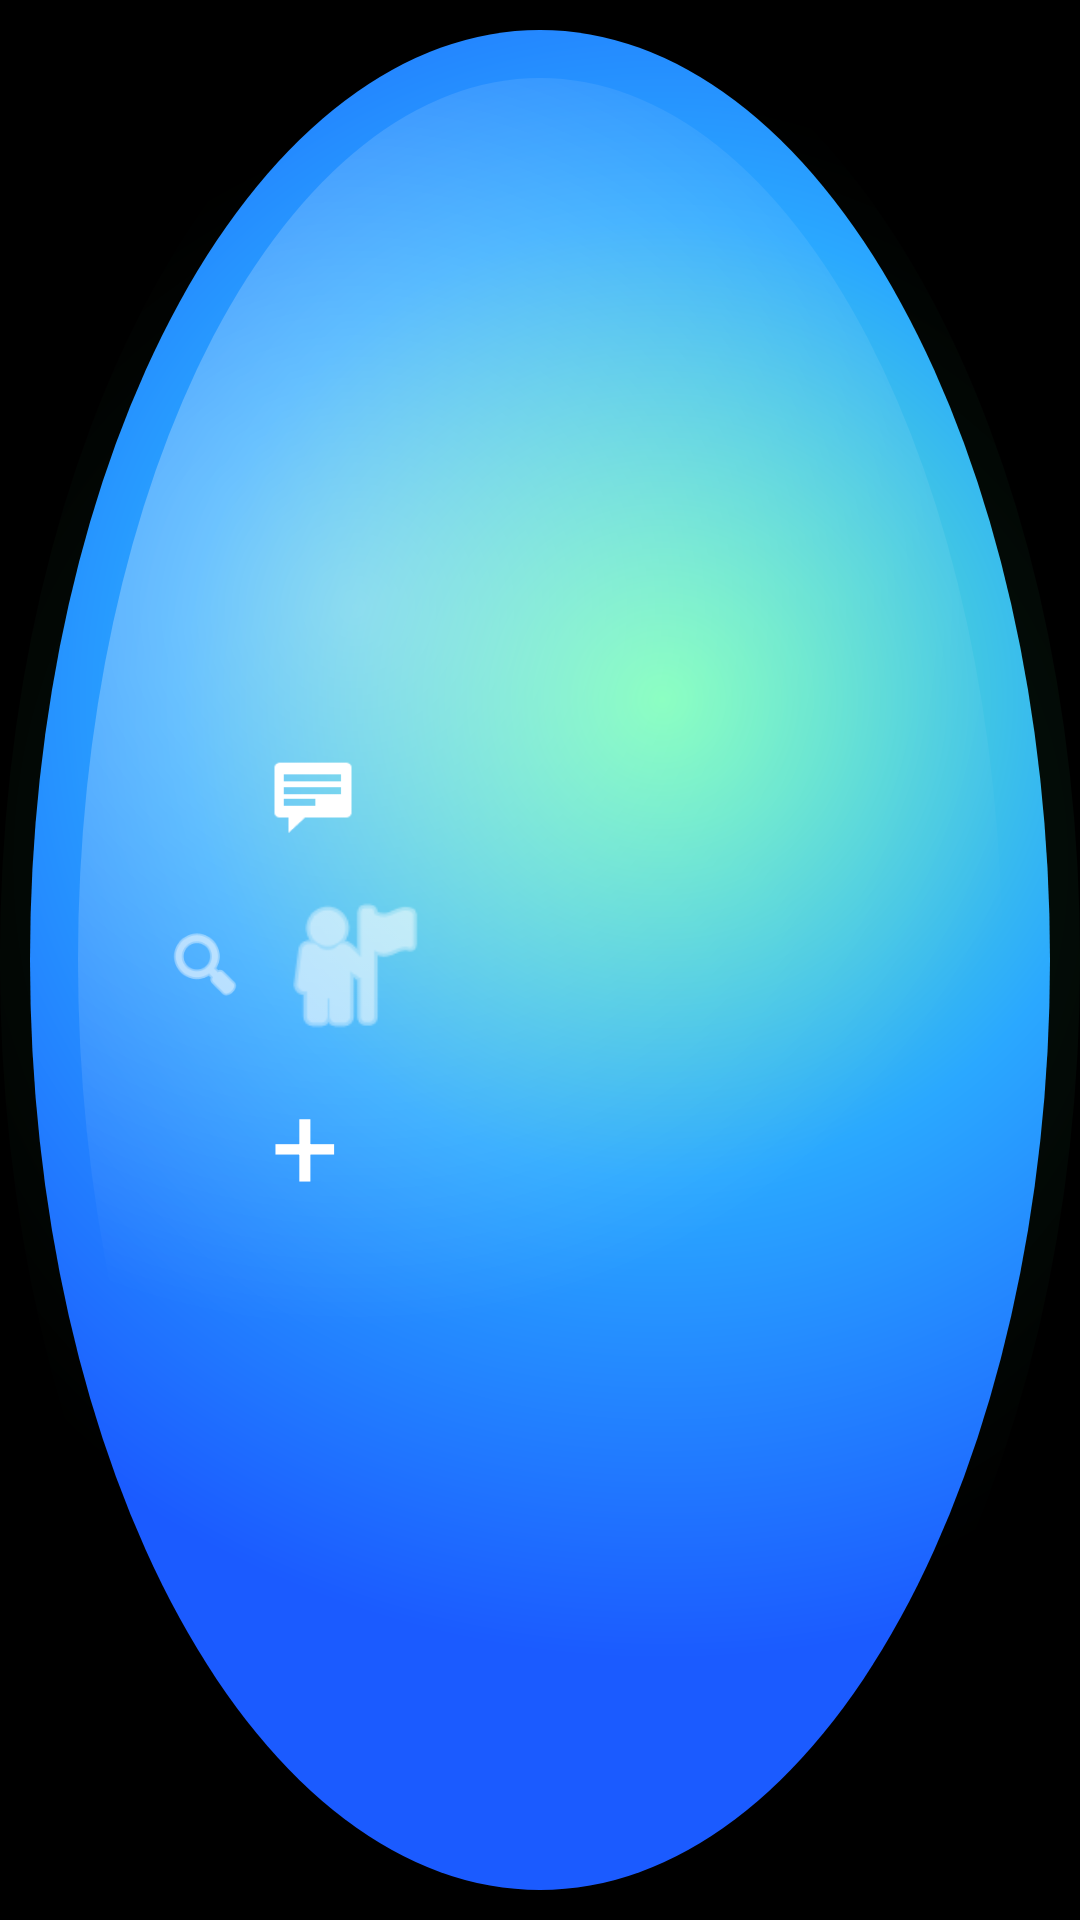

Icons on this 1080px×1920px Android screen, each with its box as (x1, y1, x2, y2):
chat: (274, 762, 352, 833)
myplaces: (282, 883, 436, 1027)
search: (174, 933, 236, 996)
